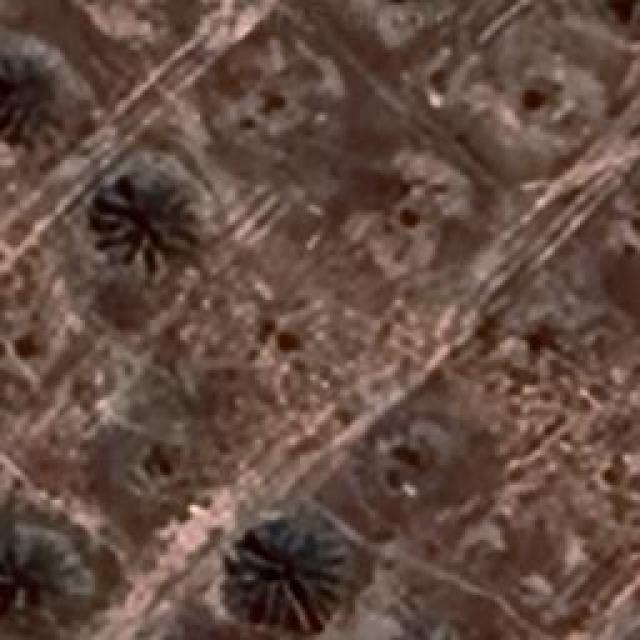PalmTree: (38, 85, 78, 571), (230, 528, 342, 630), (100, 175, 192, 263), (594, 0, 640, 34)
